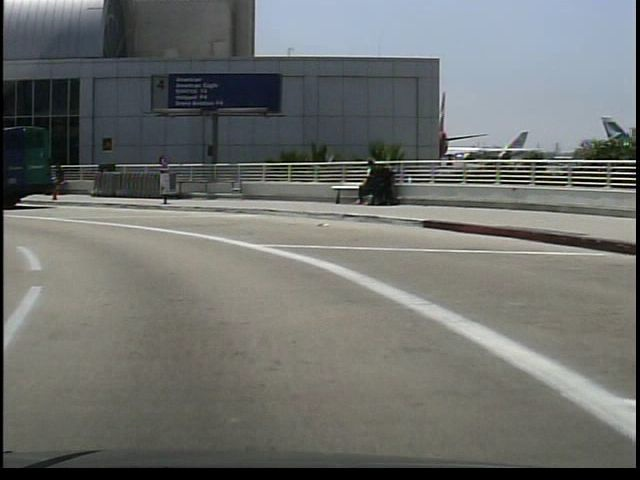person: (48, 163, 68, 201)
